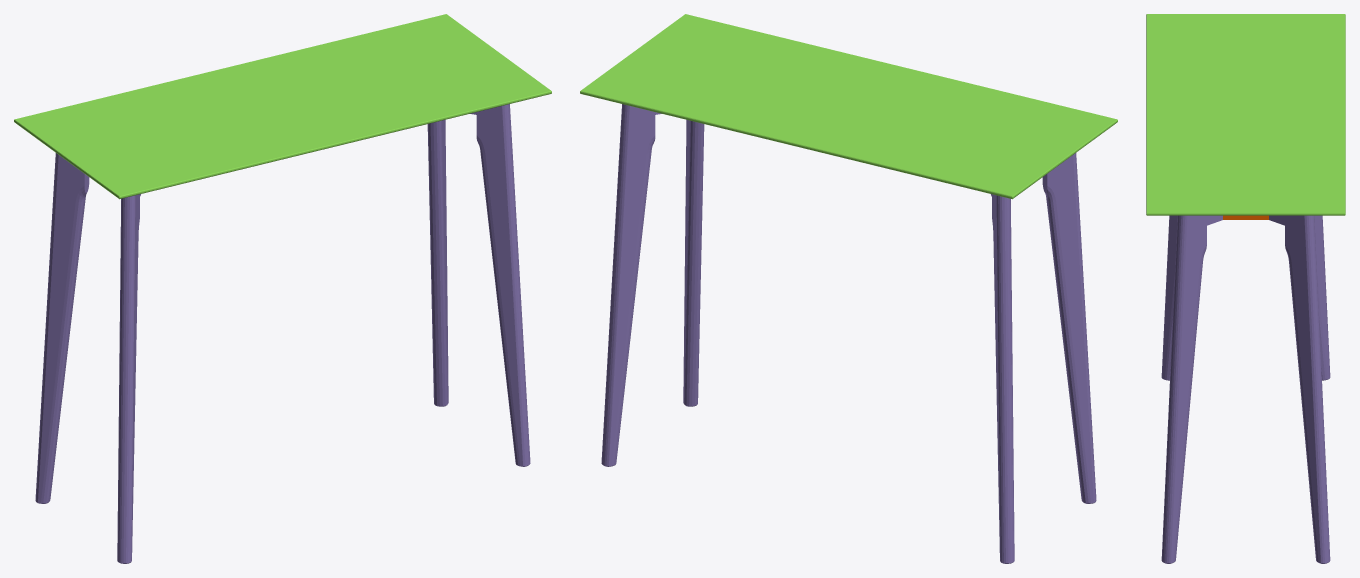
The model's file is Venus_Console_RVD.obj.
The picture shows the model from 3 angles, left to right: view 1: azimuth 30°, elevation 25°; view 2: azimuth 150°, elevation 25°; view 3: azimuth 270°, elevation 25°; orthographic projection. The views are drawn at different scales.
Visible parts, largest first — view 1: glass_rectangle, leg_consol_02, leg_consol_01; view 2: glass_rectangle, leg_consol_02, leg_consol_01; view 3: glass_rectangle, leg_consol_01, leg_consol_02.
Boxes of the visible parts, x1,y1,x2,y2 form: glass_rectangle: (14, 14, 551, 199); leg_consol_02: (35, 153, 140, 563); leg_consol_01: (427, 104, 530, 466); glass_rectangle: (580, 14, 1117, 199); leg_consol_02: (991, 153, 1096, 563); leg_consol_01: (601, 104, 704, 466); glass_rectangle: (1146, 14, 1345, 215); leg_consol_01: (1161, 215, 1330, 563); leg_consol_02: (1161, 215, 1330, 380).
Size of the model in its own units: 90 by 75.01 by 38.
